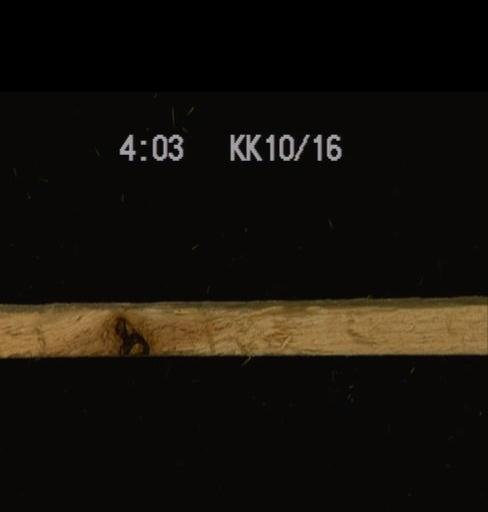wave: (0, 294, 486, 310)
